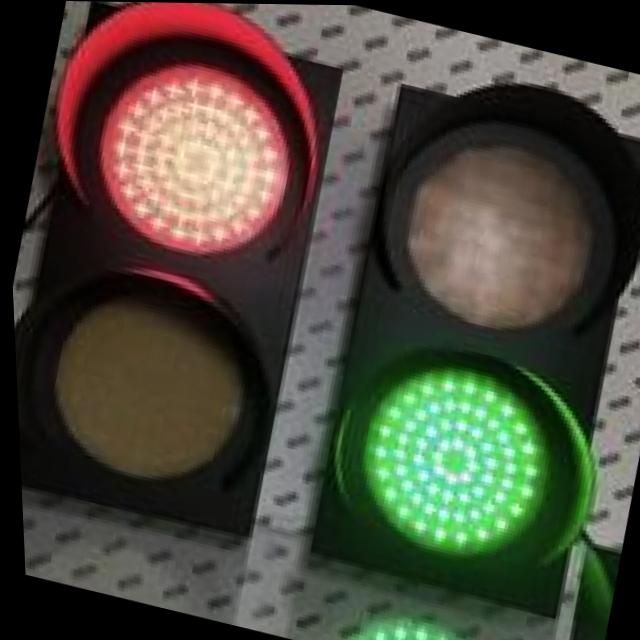green_light: (304, 332, 640, 606)
red_light: (19, 1, 343, 270)
